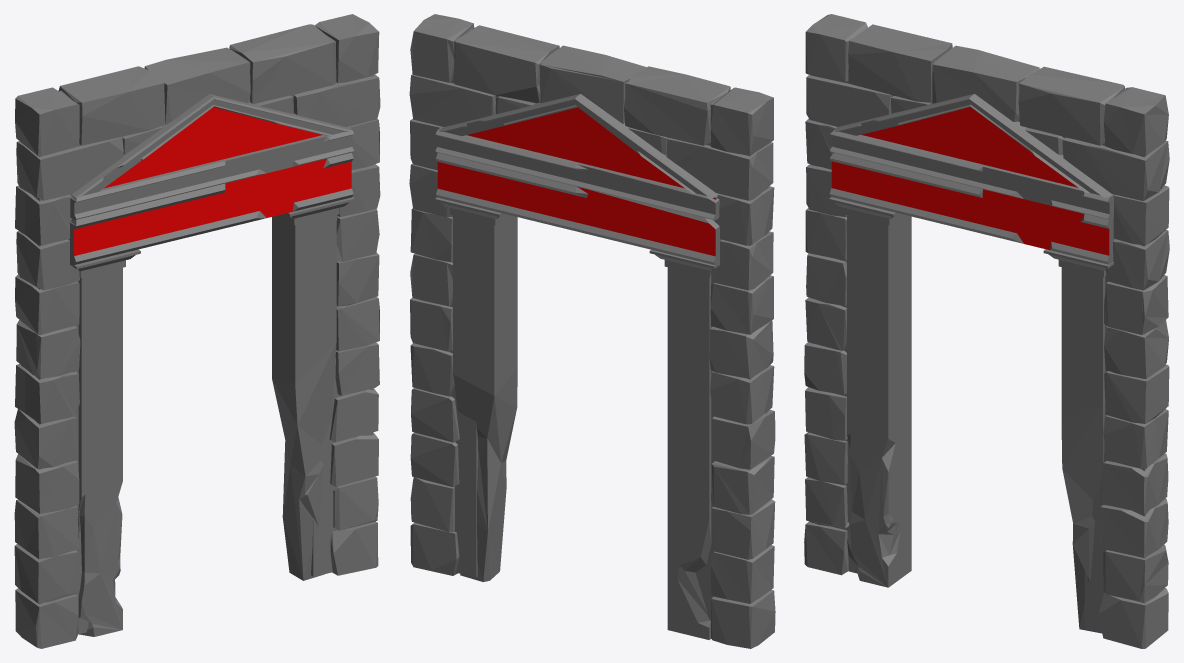
Rendered from WallDoor01.fbx.
3 views of the same model, side by side, from view 1: azimuth 30°, elevation 25°; view 2: azimuth 150°, elevation 25°; view 3: azimuth 330°, elevation 25° (orthographic).
Visible parts, largest first — view 1: WallDoor01; view 2: WallDoor01; view 3: WallDoor01.
Boxes of the visible parts, x1,y1,x2,y2 form: WallDoor01: (14, 14, 380, 648); WallDoor01: (409, 14, 775, 648); WallDoor01: (804, 14, 1169, 648).
Bounding box in the file's own units: 402 × 600 × 74.36.
